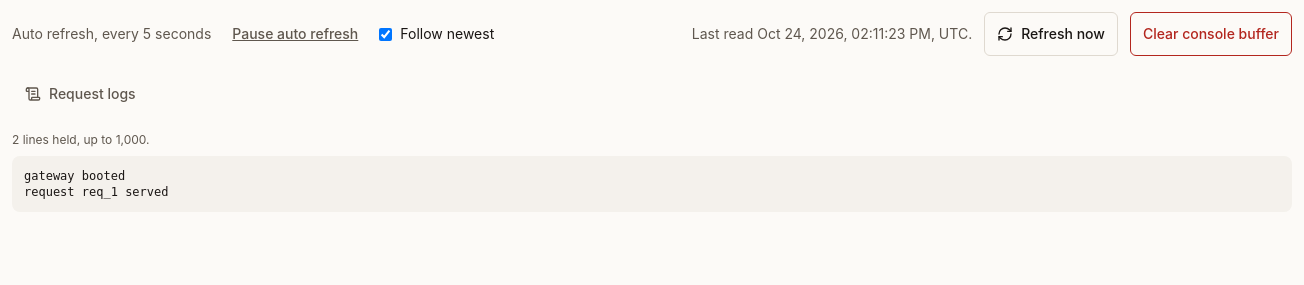
Scenario: ConsoleLog polling › stops reading while paused and says the interval is paused
Expected: the text "gateway booted request req_1 served" is shown, [12, 156, 1292, 212]
What coordinates should you click on to do the following:
click the button "Pause auto refresh"
I would click on:
 (295, 34)
Its box is [223, 12, 367, 56].
Wait 25000 ms
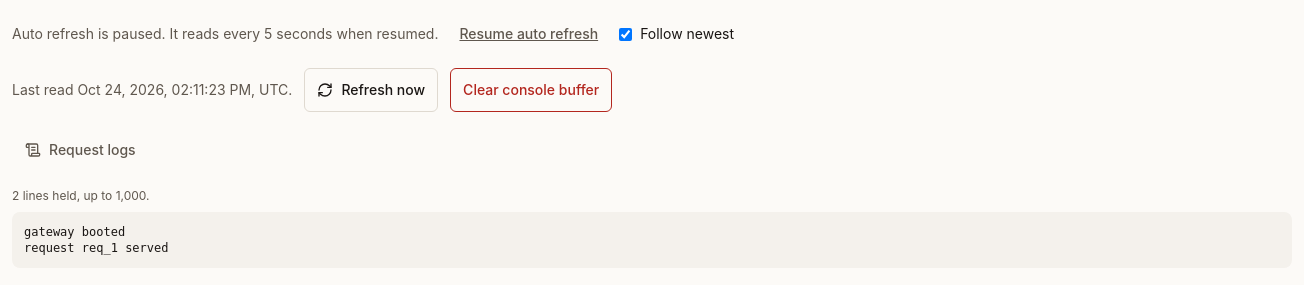
Now the text "Auto refresh is paused" is shown, box [12, 25, 438, 42]
Now the button "Resume auto refresh" is shown, box [450, 12, 607, 56]
